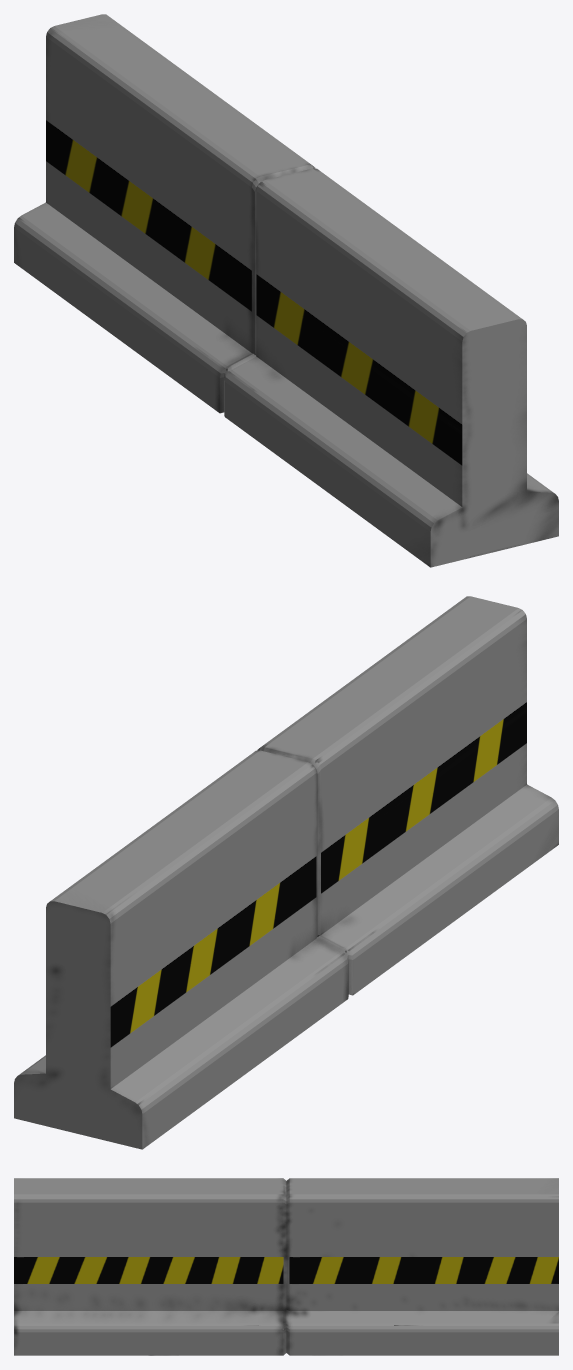
File: muro.glb
3 renders of one model, top to bottom at view 1: azimuth 30°, elevation 25°; view 2: azimuth 150°, elevation 25°; view 3: azimuth 270°, elevation 25°, orthographic. The views are drawn at different scales.
Parts seen in each view (by area): view 1: Cube; view 2: Cube; view 3: Cube.
Part boxes in pixels (box(x1,y1,x2,y2)): Cube: box(14, 14, 558, 567); Cube: box(14, 596, 558, 1149); Cube: box(14, 1178, 558, 1355).
Bounding box in the file's own units: 0.8884 × 1.5 × 4.99.
Materials: 1 (1 with a texture image).
